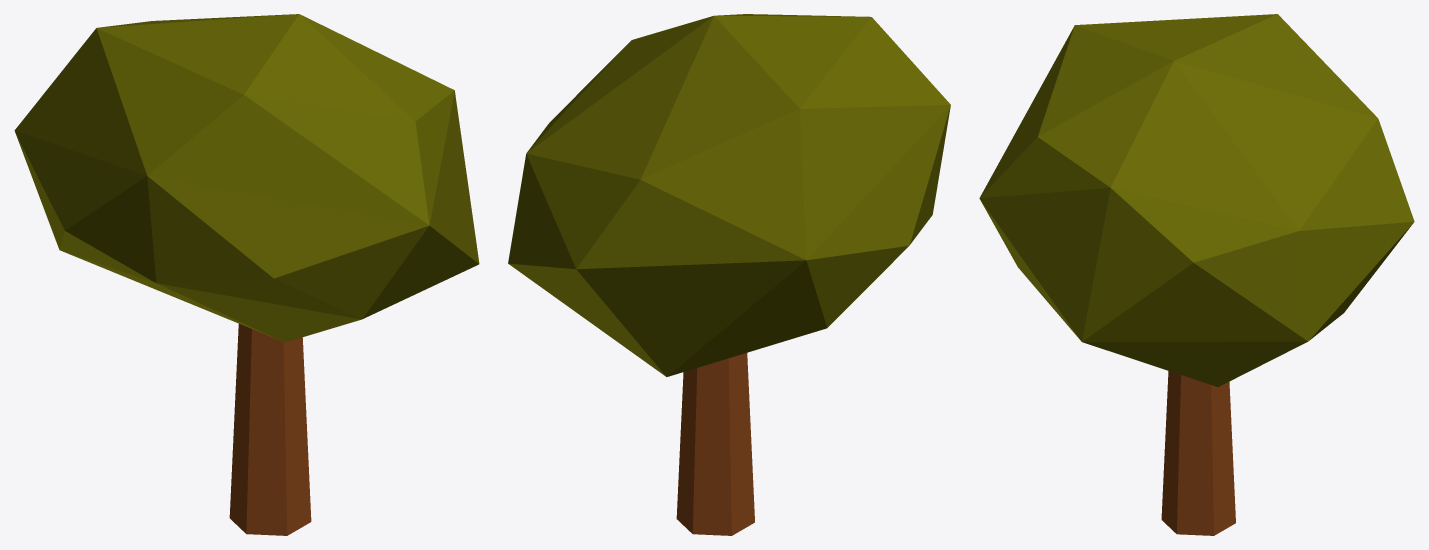
The model's file is tree.obj.
3 views of the same model, side by side, from view 1: azimuth 30°, elevation 25°; view 2: azimuth 150°, elevation 25°; view 3: azimuth 270°, elevation 25° (orthographic). The views are drawn at different scales.
Visible parts, largest first — view 1: Icosphere.018_Icosphere.011, Cylinder.020; view 2: Icosphere.018_Icosphere.011, Cylinder.020; view 3: Icosphere.018_Icosphere.011, Cylinder.020.
Boxes of the visible parts, x1=… form: Icosphere.018_Icosphere.011: x1=14, y1=14, x2=479, y2=342; Cylinder.020: x1=229, y1=324, x2=311, y2=535; Icosphere.018_Icosphere.011: x1=508, y1=14, x2=950, y2=376; Cylinder.020: x1=676, y1=353, x2=754, y2=535; Icosphere.018_Icosphere.011: x1=979, y1=14, x2=1414, y2=386; Cylinder.020: x1=1161, y1=371, x2=1235, y2=535.
Size of the model in its own units: 3.04 by 3.92 by 3.31.
